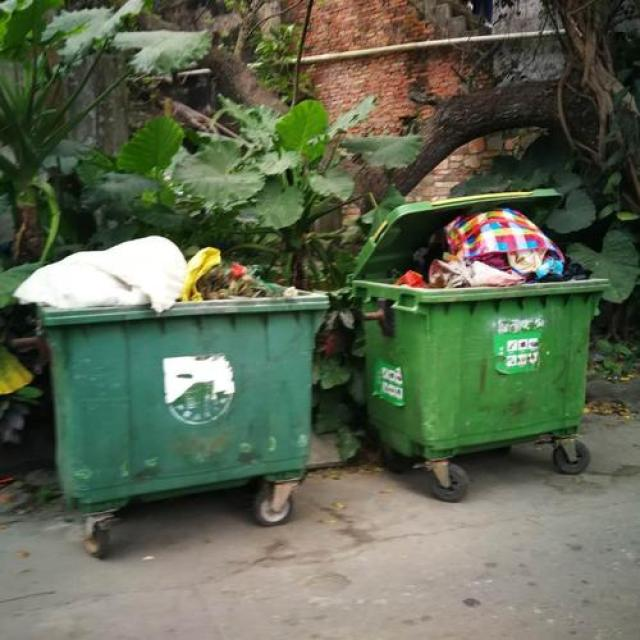overflow: (12, 232, 330, 509), (353, 190, 611, 458)
